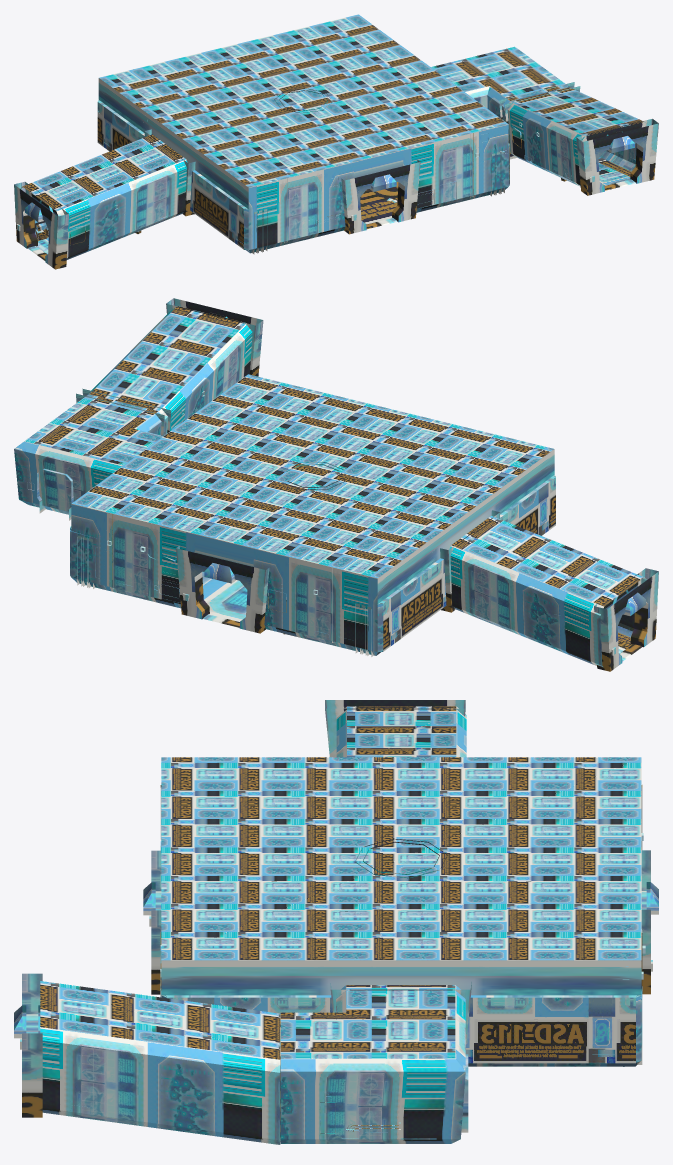
The model's file is Combined_Mesh_root_scene__12_ac3e1c64__ZombiesII_laboratory_10_a_1fa57b93_c1f257.obj.
3 renders of one model, top to bottom at view 1: azimuth 30°, elevation 25°; view 2: azimuth 150°, elevation 25°; view 3: azimuth 270°, elevation 25°, orthographic. The views are drawn at different scales.
Bounding box in the file's own units: 78.61 × 13.91 × 53.73.
Materials: 273 (273 with a texture image).
